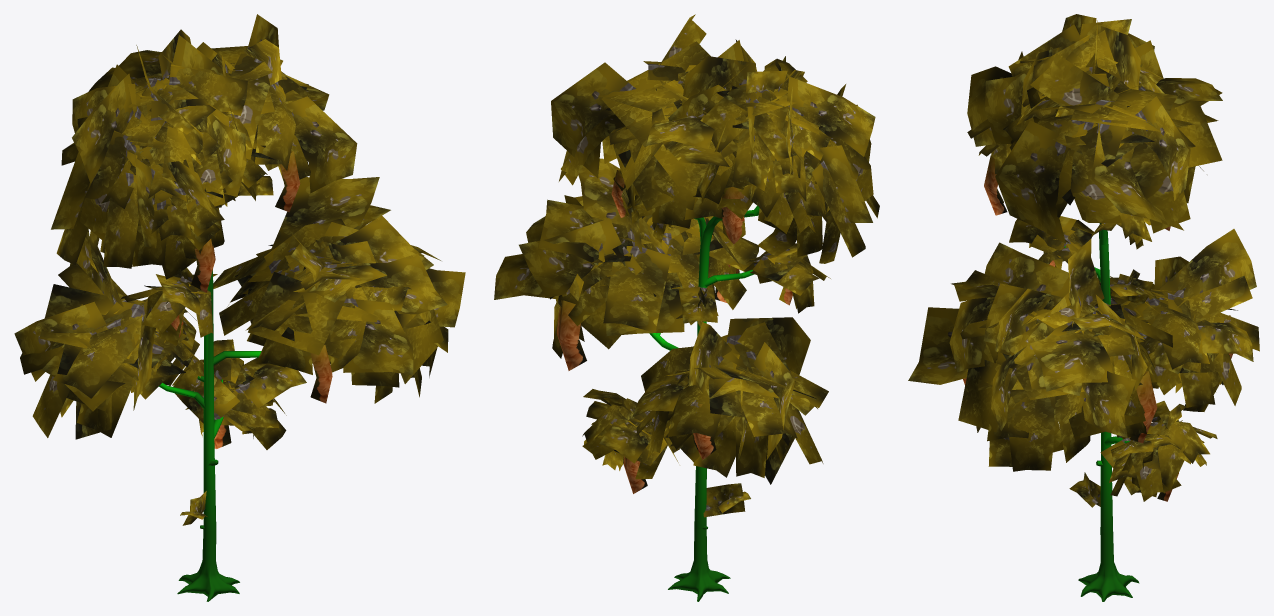
Rendered from hvs_trees_birch03_lod1.fbx.
3 views of the same model, side by side, from view 1: azimuth 30°, elevation 25°; view 2: azimuth 150°, elevation 25°; view 3: azimuth 270°, elevation 25° (orthographic). The views are drawn at different scales.
Parts seen in each view (by area): view 1: hvs_trees_birch03_lod1; view 2: hvs_trees_birch03_lod1; view 3: hvs_trees_birch03_lod1.
Boxes of the visible parts, <box> form: hvs_trees_birch03_lod1: <box>14,14,465,601</box>; hvs_trees_birch03_lod1: <box>494,14,879,601</box>; hvs_trees_birch03_lod1: <box>908,14,1259,601</box>.
Bounding box in the file's own units: 48.19 × 70.59 × 40.4.
